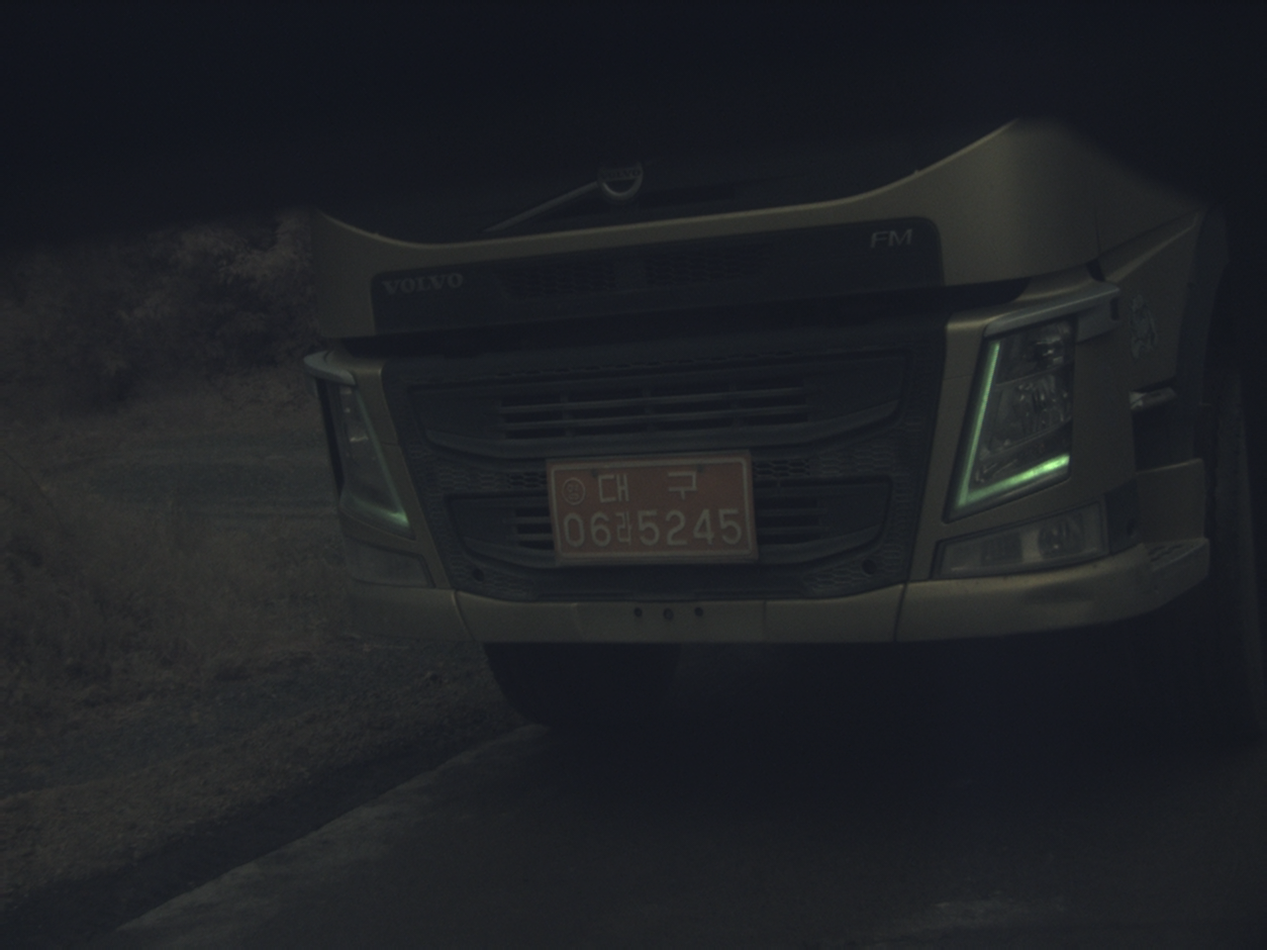license_plate: (547, 453, 757, 564)
truck: (307, 121, 1265, 735)
